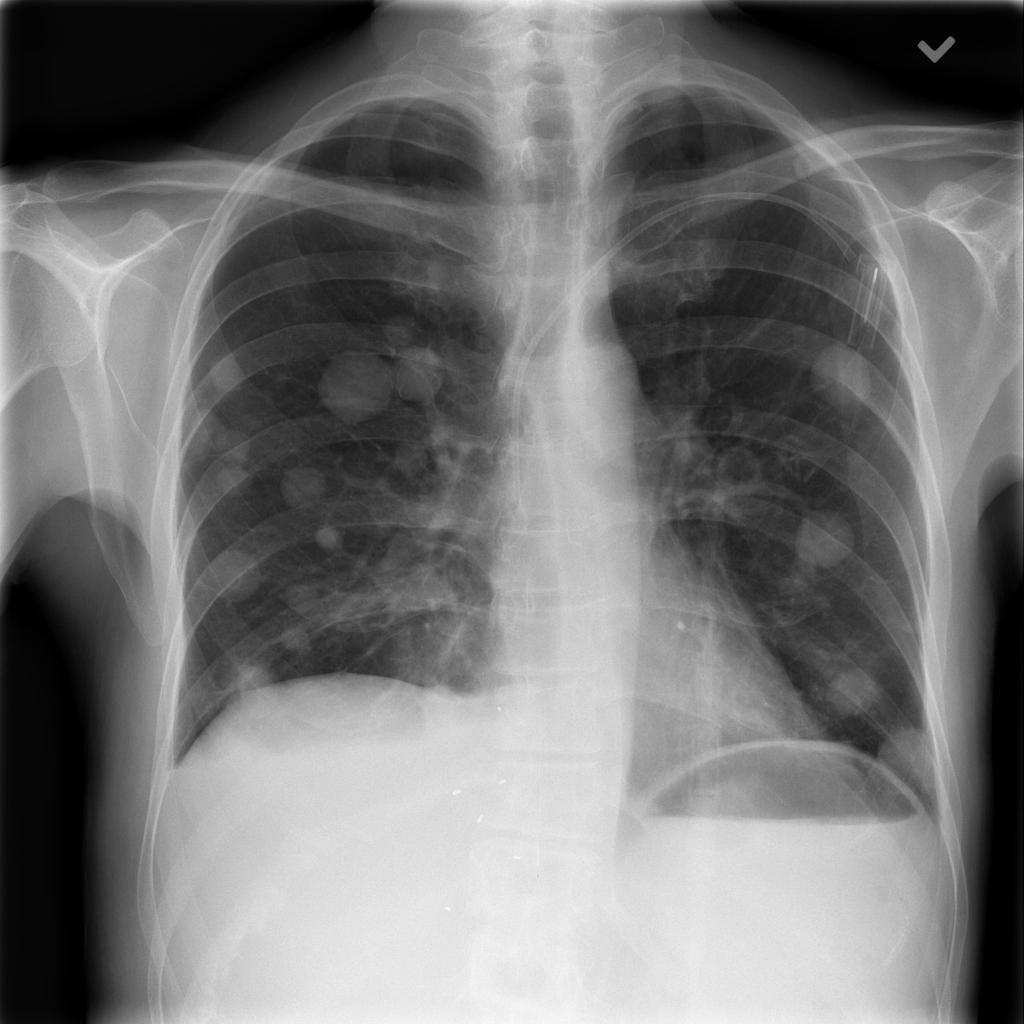nodule: (797, 323, 890, 430), (314, 342, 399, 433), (807, 652, 897, 728), (868, 719, 950, 799), (784, 498, 867, 577), (210, 650, 292, 718), (183, 406, 263, 473), (198, 535, 271, 608), (386, 339, 458, 407), (269, 456, 343, 516), (205, 451, 259, 504), (386, 435, 444, 483), (268, 611, 327, 657), (300, 514, 360, 558), (278, 575, 331, 623)
